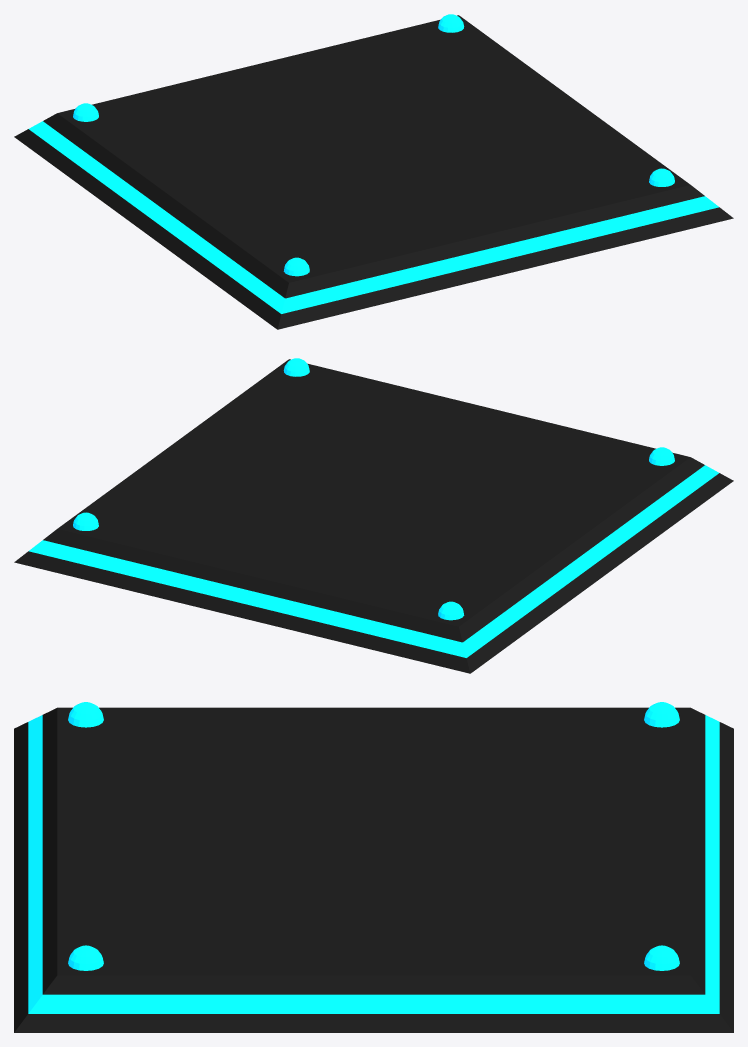
The model's file is park.glb.
The picture shows the model from 3 angles, top to bottom: view 1: azimuth 30°, elevation 25°; view 2: azimuth 150°, elevation 25°; view 3: azimuth 270°, elevation 25°; orthographic projection. The views are drawn at different scales.
Parts seen in each view (by area): view 1: park_glow, park; view 2: park_glow, park; view 3: park_glow, park.
Part boxes in pixels (box(x1,y1,x2,y2)): park_glow: box(14, 15, 733, 329); park: box(29, 14, 718, 313); park_glow: box(14, 359, 733, 673); park: box(29, 358, 718, 657); park_glow: box(14, 707, 733, 1032); park: box(28, 702, 719, 1013).
Bounding box in the file's own units: 20 × 1.7 × 20.
